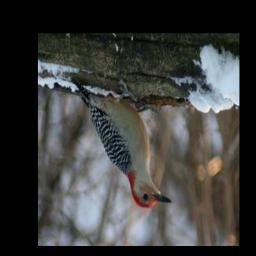Woodpecker: (72, 79, 173, 209)
